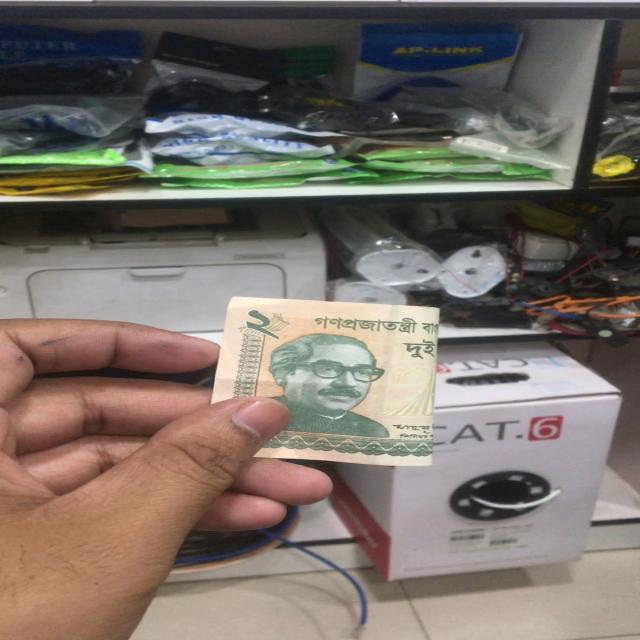Taka: (230, 298, 453, 471)
